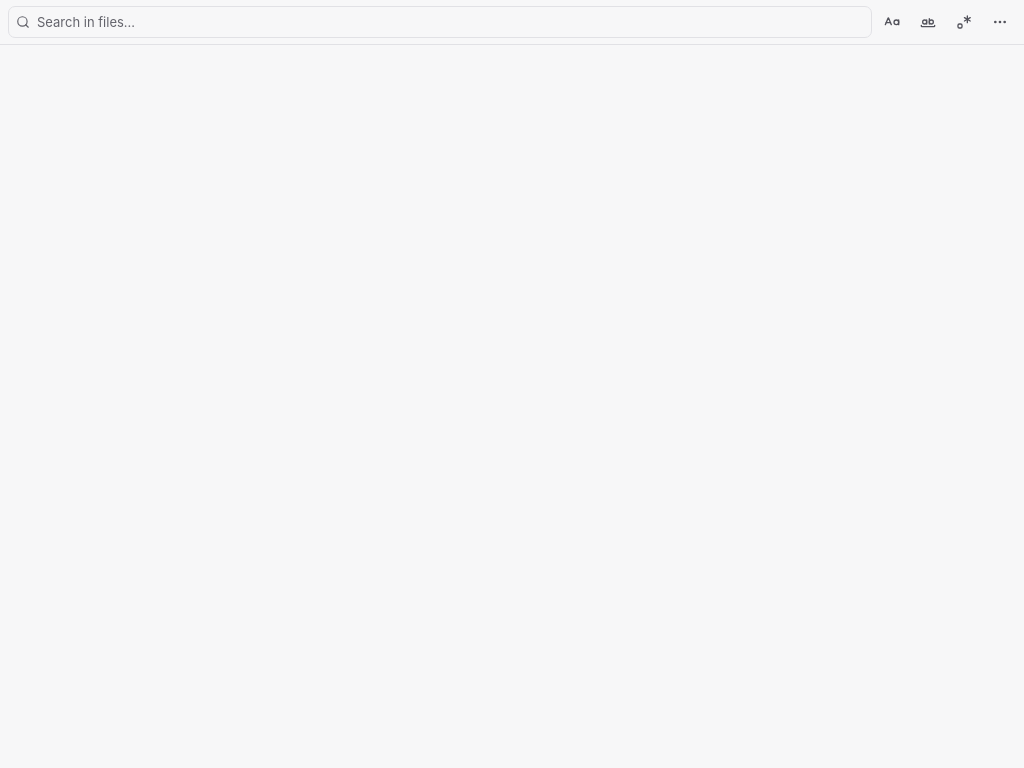
ContentSearch › a search aborted by a newer one says nothing of its failure
This screenshot has width=1024, height=768.
Type "foo" into the search field named "Search file contents" at (440,22), box [8, 6, 872, 38]
Wait 300 ms
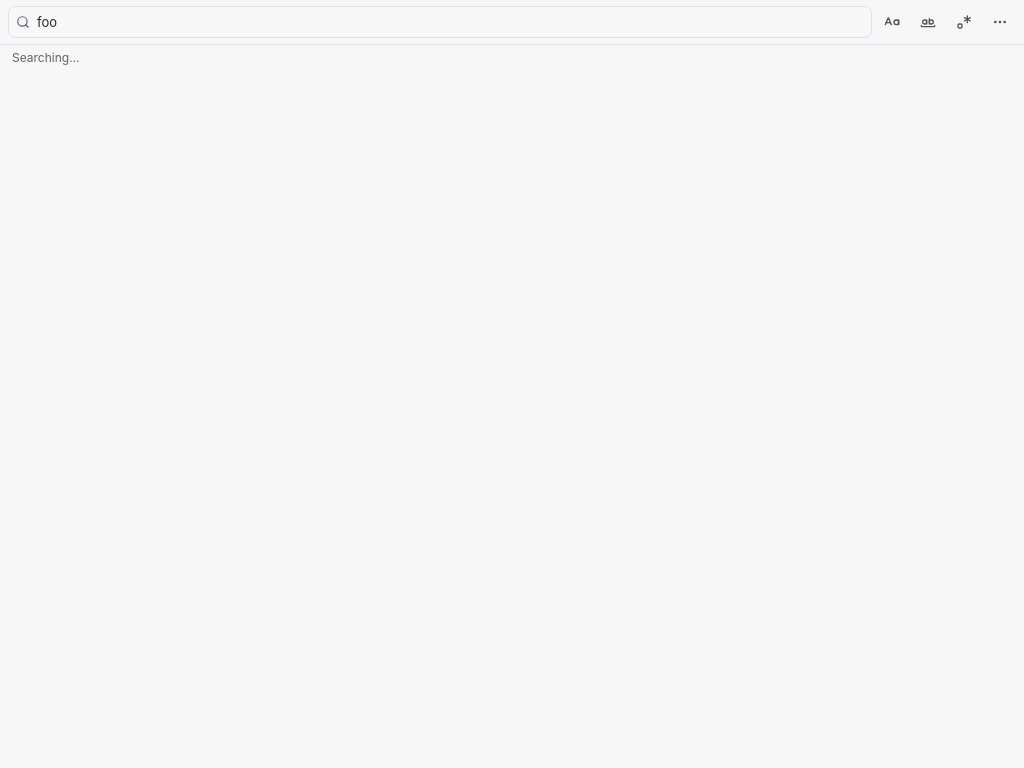
Replace the text in the search field named "Search file contents" with "food" at (440,22), box [8, 6, 872, 38]
Wait 300 ms
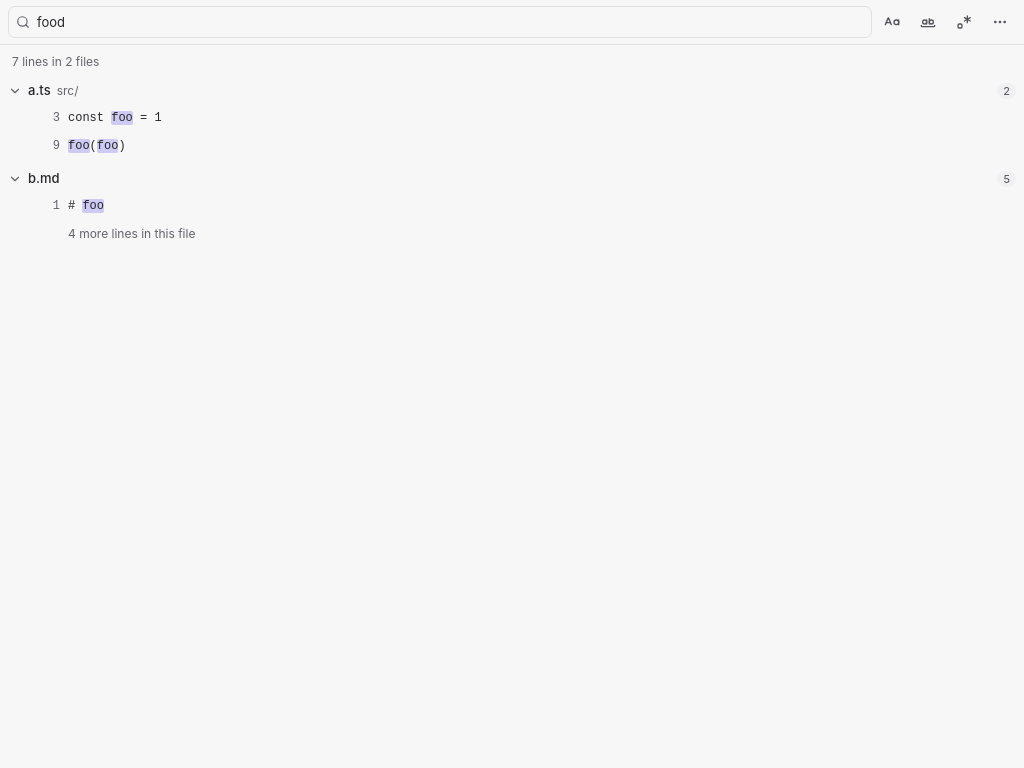
Result: the text "7 lines in 2 files" is shown at [12, 54, 99, 69]
